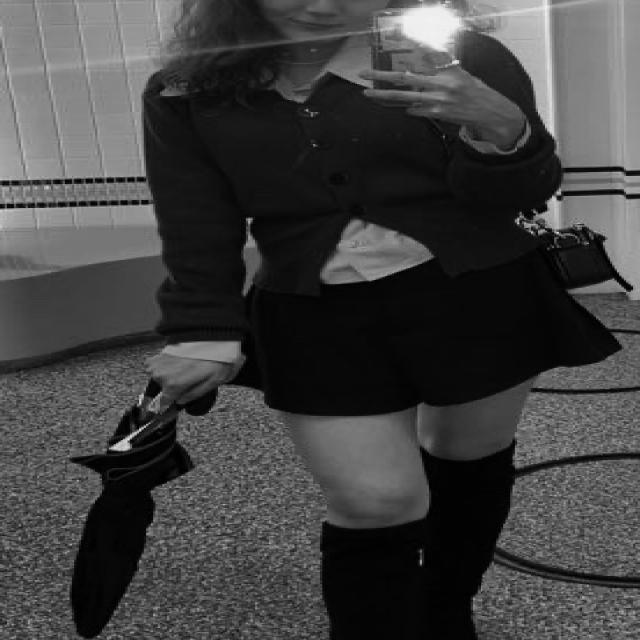cardigan: (140, 23, 574, 346)
shortpants: (218, 251, 618, 416)
